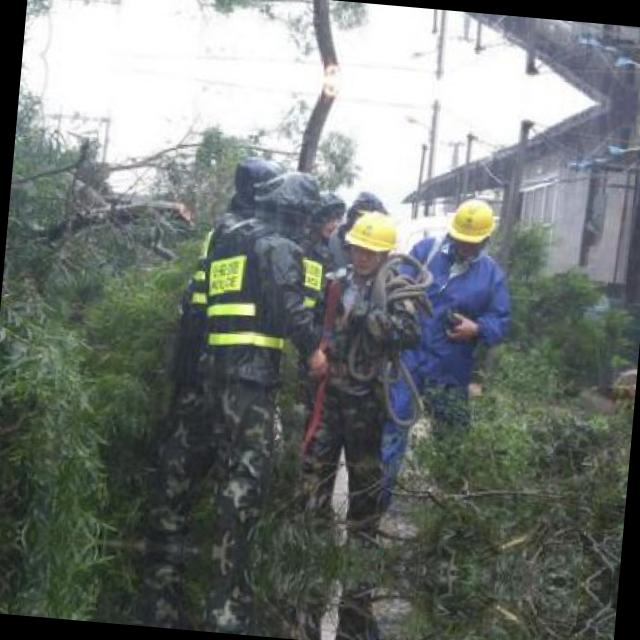helmet: (342, 207, 401, 276), (442, 192, 502, 256)
